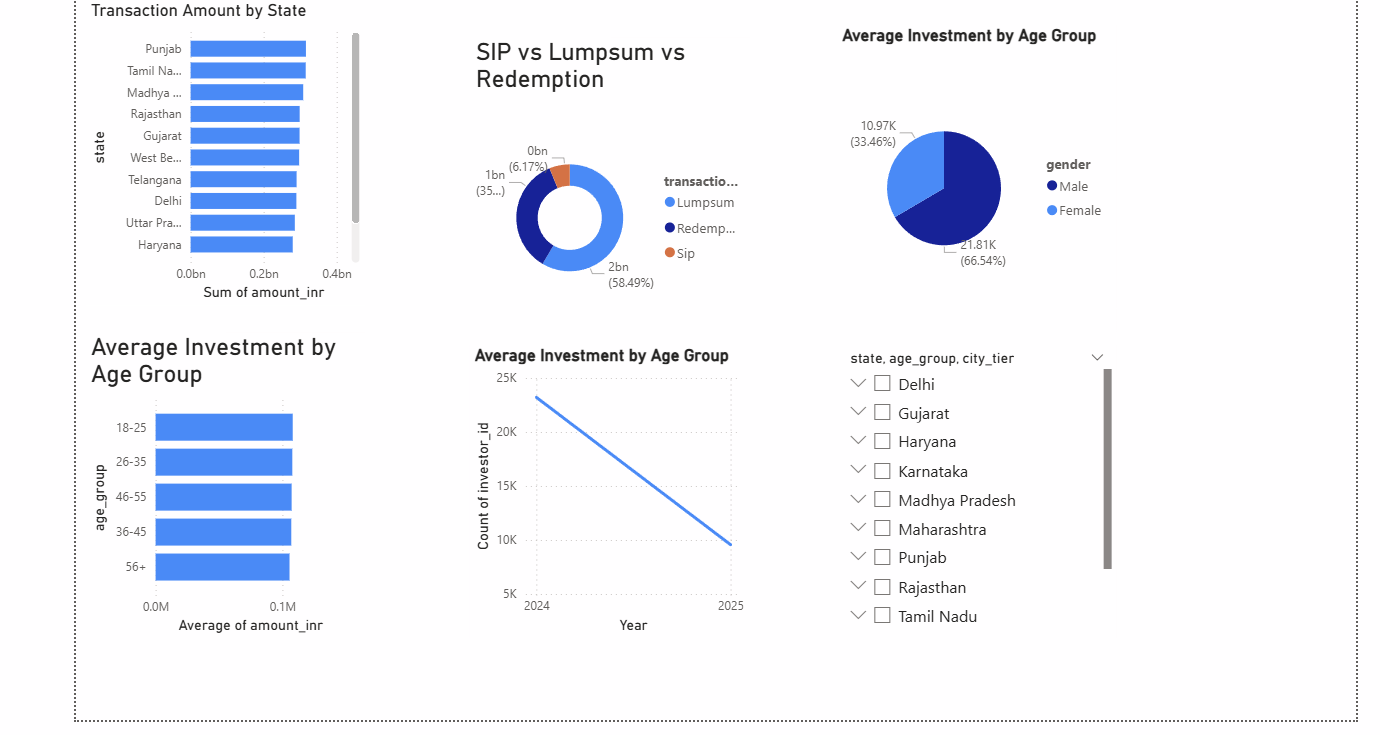

The dashboard page shown, as its layout file describes it:
{"tool":"powerbi","page":{"name":"Investor Analytics","canvas":[1280,720],"ordinal":2},"visuals":[{"type":"clusteredBarChart","title":" Transaction Amount by State","fields":{"Category":["transactions_clean.state"],"Y":["Sum(transactions_clean.amount_inr)"]},"box":[10,0,278.9,305.6],"z":0},{"type":"donutChart","title":"SIP vs Lumpsum vs Redemption","fields":{"Y":["Sum(transactions_clean.amount_inr)"],"Category":["transactions_clean.transaction_type"]},"box":[394.4,37.8,278.9,306.7],"z":1000},{"type":"clusteredBarChart","title":"Average Investment by Age Group","fields":{"Category":["transactions_clean.age_group"],"Y":["Avg(transactions_clean.amount_inr)","select"]},"box":[10,332,279,306],"z":2000},{"type":"lineChart","title":" Average Investment by Age Group","fields":{"Category":["transactions_clean.transaction_date.Variation.Date Hierarchy.Year","transactions_clean.transaction_date.Variation.Date Hierarchy.Quarter","transactions_clean.transaction_date.Variation.Date Hierarchy.Month","transactions_clean.transaction_date.Variation.Date Hierarchy.Day"],"Y":["CountNonNull(transactions_clean.investor_id)"]},"box":[394,345,279,293],"z":3000},{"type":"pieChart","title":"Average Investment by Age Group","fields":{"Category":["transactions_clean.gender"],"Y":["CountNonNull(transactions_clean.investor_id)"]},"box":[761.1,24.4,278.9,307.8],"z":4000},{"type":"slicer","fields":{"Values":["transactions_clean.state","transactions_clean.age_group","transactions_clean.city_tier"]},"box":[761,345,279,293],"z":5000}]}

Visuals, with their boxes on the page's 1280x720 design canvas (x1, y1, x2, y2). These are canvas units, not pixel positions in the 1380x735 screenshot, which may show the page scaled, cropped or inside an application window:
" Transaction Amount by State" clusteredBarChart: BBox(10, 0, 289, 306)
"SIP vs Lumpsum vs Redemption" donutChart: BBox(394, 38, 673, 344)
"Average Investment by Age Group" clusteredBarChart: BBox(10, 332, 289, 638)
" Average Investment by Age Group" lineChart: BBox(394, 345, 673, 638)
"Average Investment by Age Group" pieChart: BBox(761, 24, 1040, 332)
slicer - transactions_clean.state x transactions_clean.age_group: BBox(761, 345, 1040, 638)
